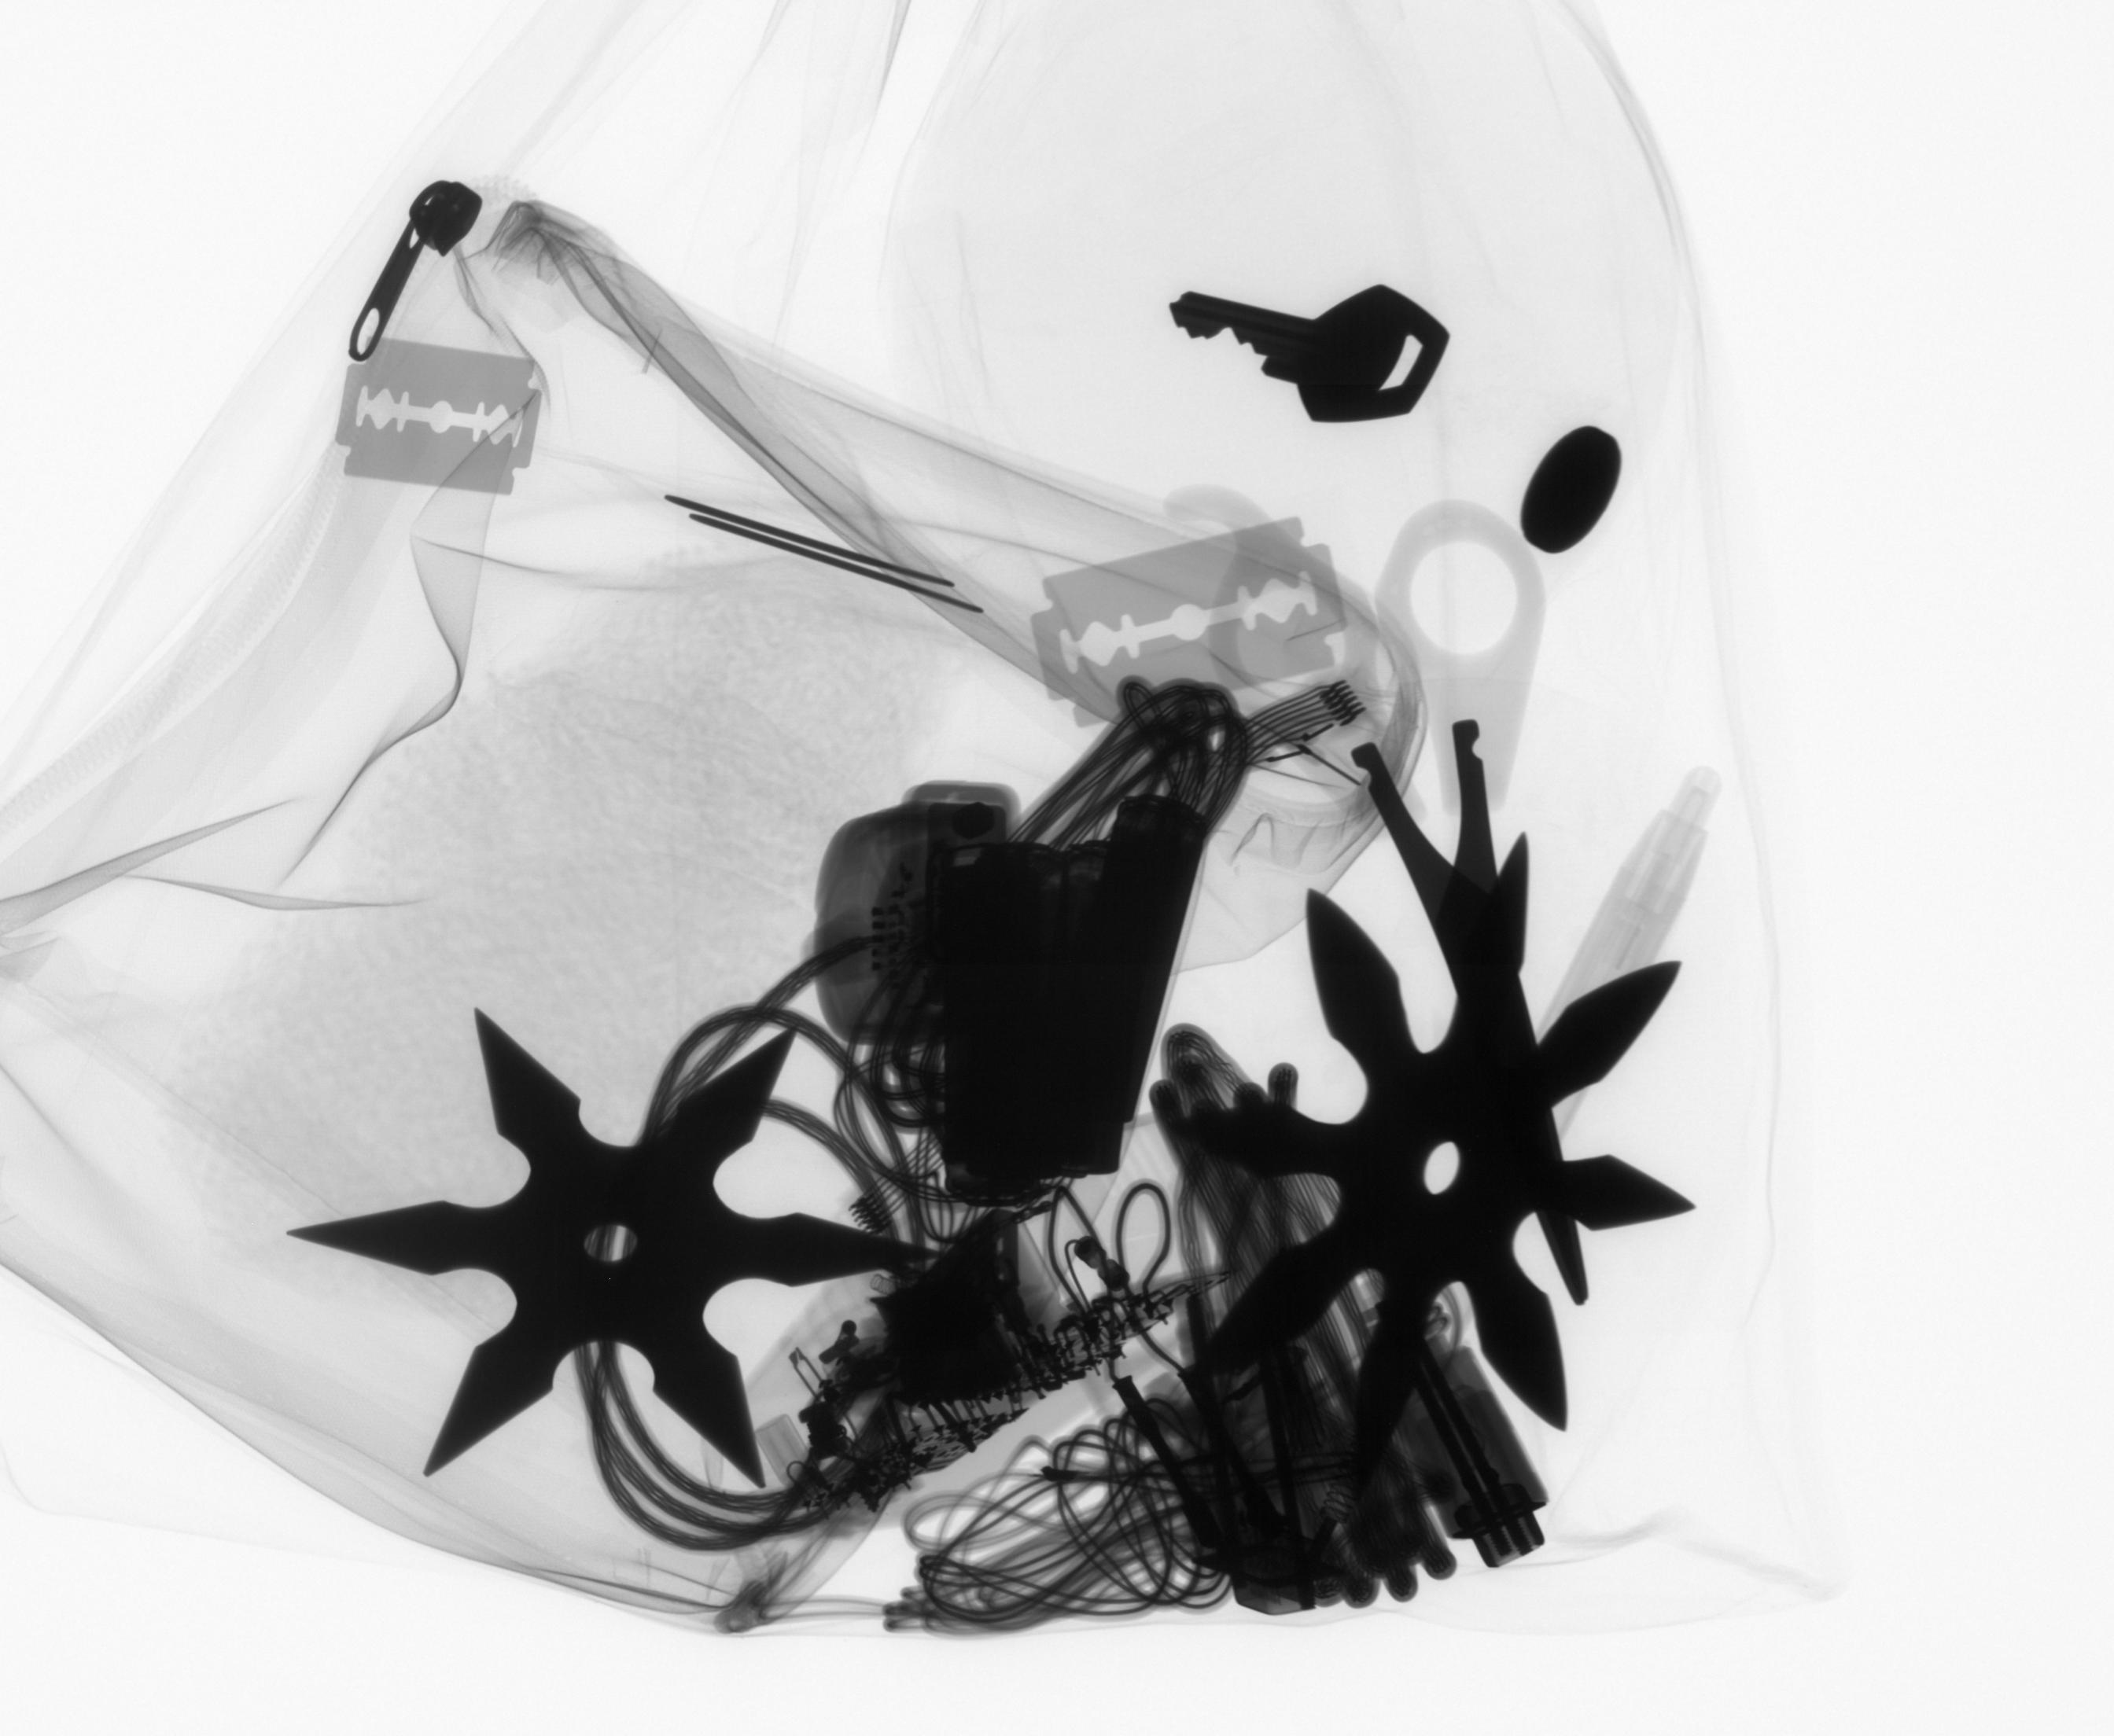RazorBlade: (1018, 507, 1357, 741), (325, 328, 550, 506)
Shuriken: (276, 992, 962, 1499), (1176, 827, 1705, 1439)
